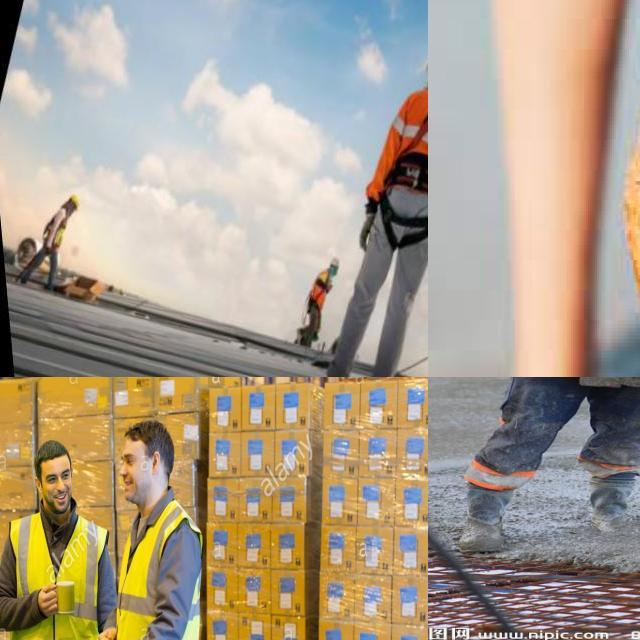Harness: (388, 114, 428, 194)
No_Ear-Protection: (151, 448, 162, 476), (33, 475, 43, 494)
No_Glasses: (43, 469, 73, 486), (117, 452, 142, 470)
face_nomask: (118, 442, 155, 508), (41, 466, 78, 522)
hand_noglove: (34, 578, 64, 622)
head_nohelmet: (32, 426, 72, 470), (124, 413, 174, 444)
person: (476, 377, 640, 536), (103, 418, 206, 640), (3, 438, 102, 640)
shoes: (450, 490, 512, 556), (579, 486, 638, 541)
vest: (11, 511, 102, 640), (117, 513, 196, 640)
